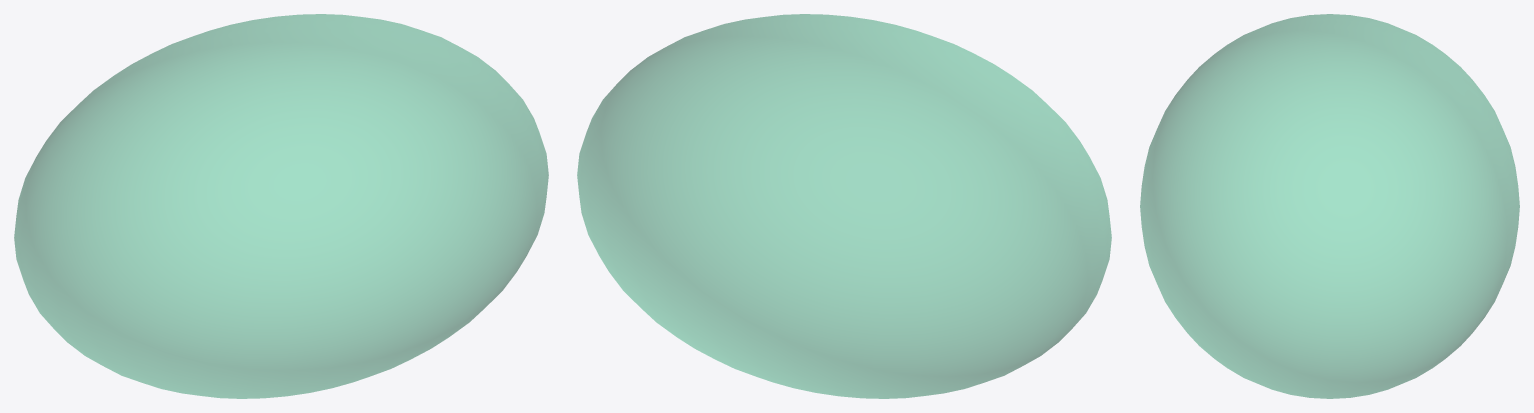
Rendered from cell-wall.glb.
3 renders of one model, left to right at view 1: azimuth 30°, elevation 25°; view 2: azimuth 150°, elevation 25°; view 3: azimuth 270°, elevation 25°, orthographic. The views are drawn at different scales.
Parts seen in each view (by area): view 1: Cell Wall; view 2: Cell Wall; view 3: Cell Wall.
Boxes of the visible parts, left/top/right/bottom form: Cell Wall: left=14, top=14, right=548, bottom=398; Cell Wall: left=577, top=14, right=1111, bottom=398; Cell Wall: left=1140, top=14, right=1519, bottom=398.
Size of the model in its own units: 4.5 by 2.9 by 3.2.
